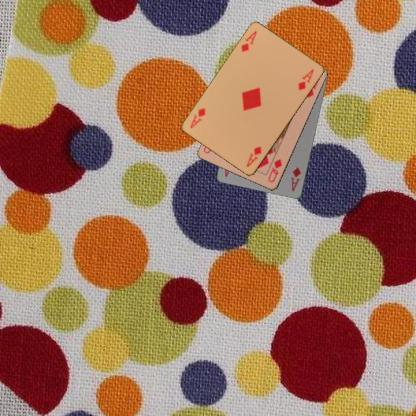Ad: (244, 144, 263, 169), (239, 28, 258, 53), (288, 165, 302, 194)
Qd: (266, 156, 284, 184)
